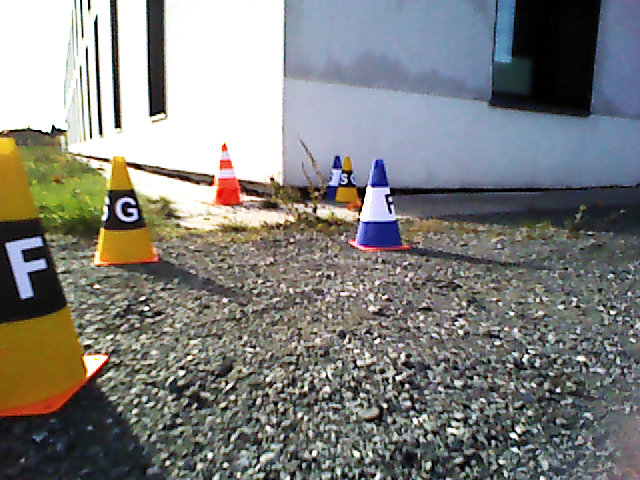bluecone: (360, 161, 402, 246), (327, 155, 338, 200)
orangeconesmall: (216, 143, 239, 187)
yellowcone: (1, 137, 77, 406), (99, 156, 150, 260), (337, 157, 359, 202)
